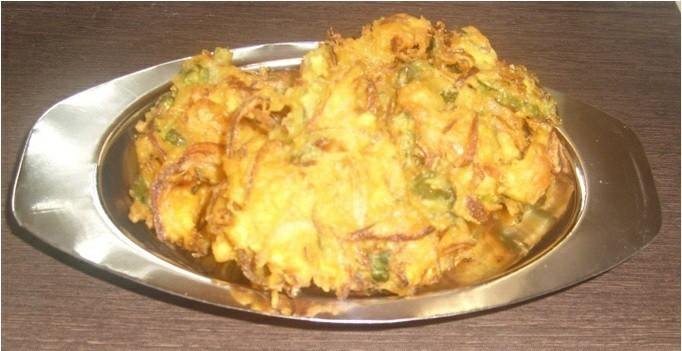OnionPakoda: (125, 12, 577, 295)
